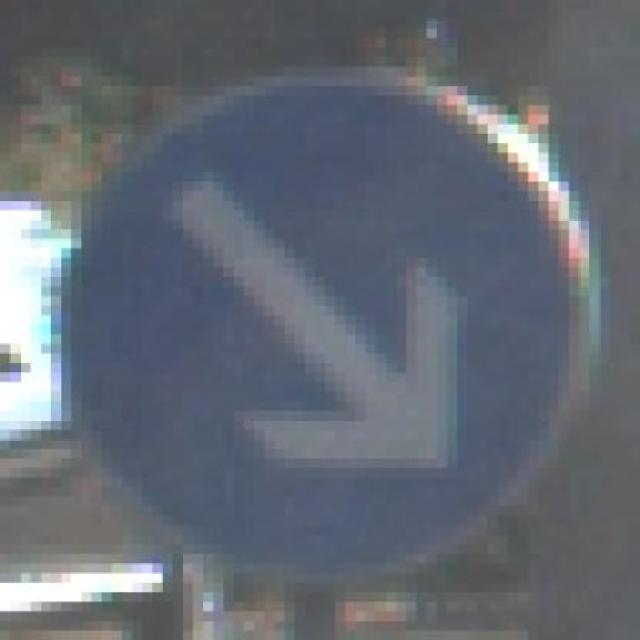Keep-Right: (40, 67, 620, 602)
